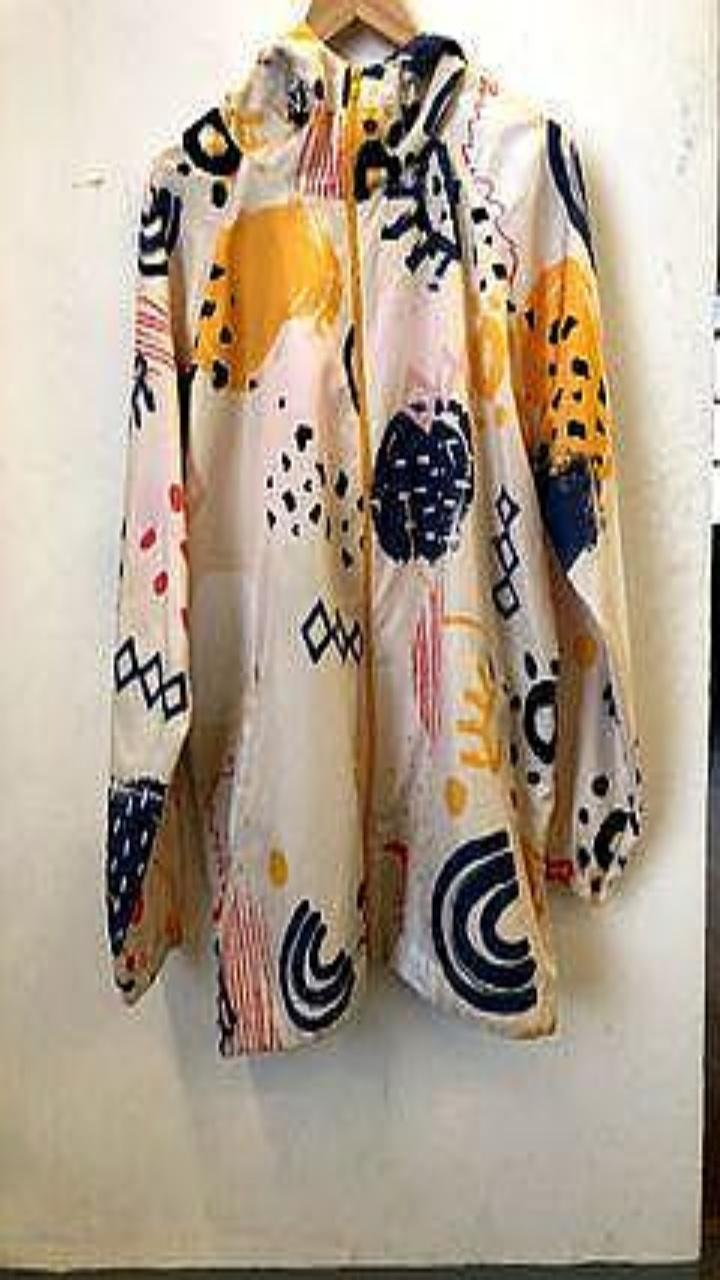Coat: (105, 24, 642, 1055)
